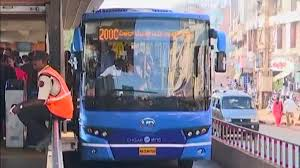Car: (212, 92, 262, 139)
Chigari: (75, 9, 227, 164)
Human: (17, 51, 70, 157)
